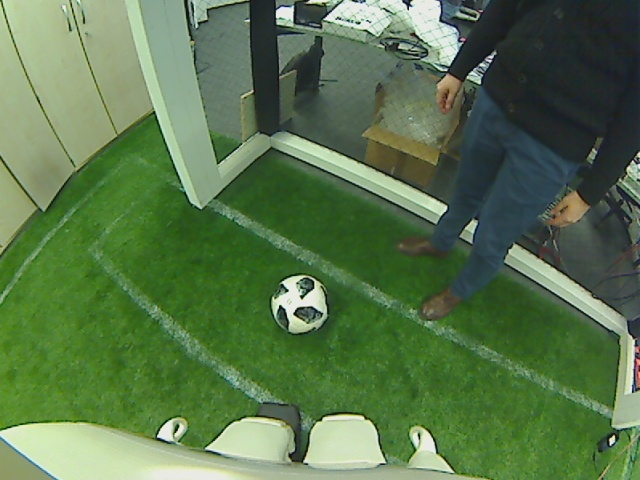ball: (268, 273, 330, 335)
